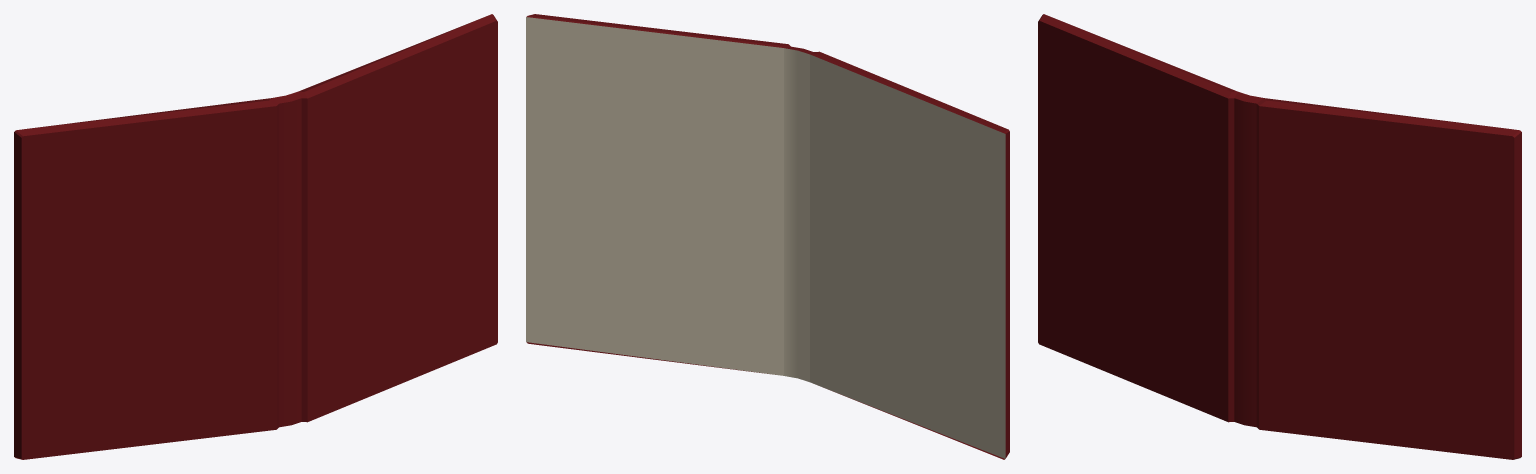
Rendered from OpenBook.fbx.
The picture shows the model from 3 angles, left to right: view 1: azimuth 30°, elevation 25°; view 2: azimuth 150°, elevation 25°; view 3: azimuth 330°, elevation 25°; orthographic projection.
Parts seen in each view (by area): view 1: OpenBook:RoadKillOut; view 2: OpenBook:RoadKillOut; view 3: OpenBook:RoadKillOut.
Part boxes in pixels (left/top/right/bottom): OpenBook:RoadKillOut: left=14, top=14, right=497, bottom=459; OpenBook:RoadKillOut: left=526, top=14, right=1009, bottom=459; OpenBook:RoadKillOut: left=1038, top=14, right=1521, bottom=459.
Size of the model in its own units: 79.66 by 52.07 by 11.09.
